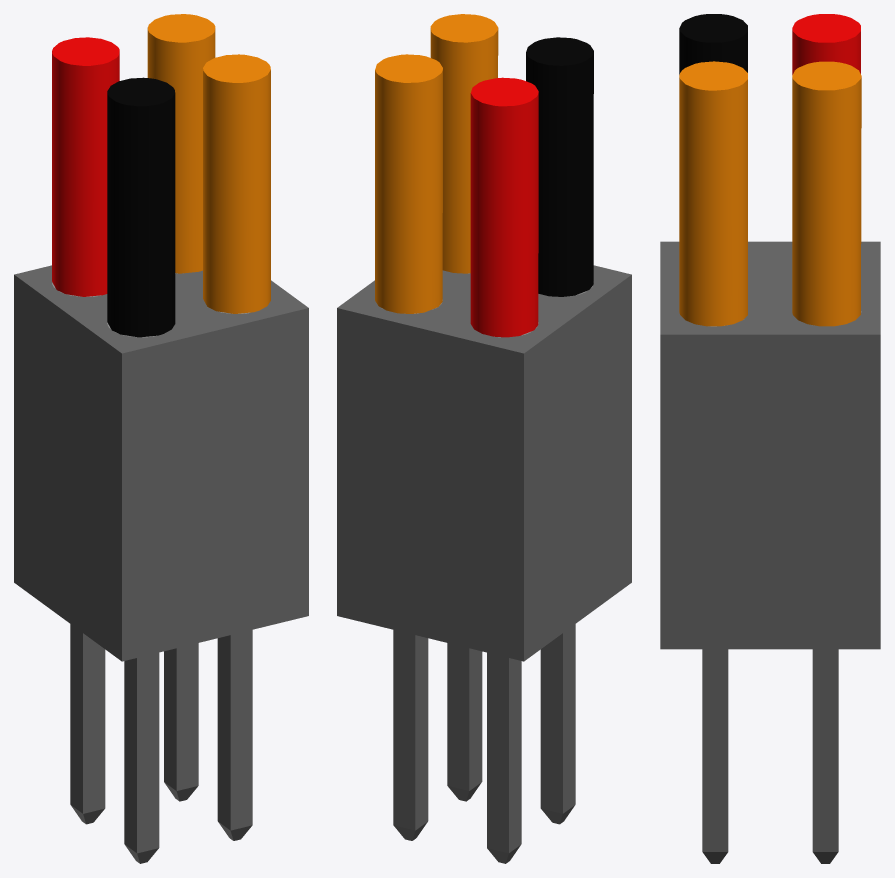
Rendered from adapter2.glb.
3 views of the same model, side by side, from view 1: azimuth 30°, elevation 25°; view 2: azimuth 150°, elevation 25°; view 3: azimuth 270°, elevation 25° (orthographic). The views are drawn at different scales.
Parts seen in each view (by area): view 1: adapter2; view 2: adapter2; view 3: adapter2.
Part boxes in pixels (<box>): adapter2: <box>14,14,308,863</box>; adapter2: <box>337,14,631,863</box>; adapter2: <box>660,14,880,863</box>.
Size of the model in its own units: 0.508 by 2 by 0.508.
